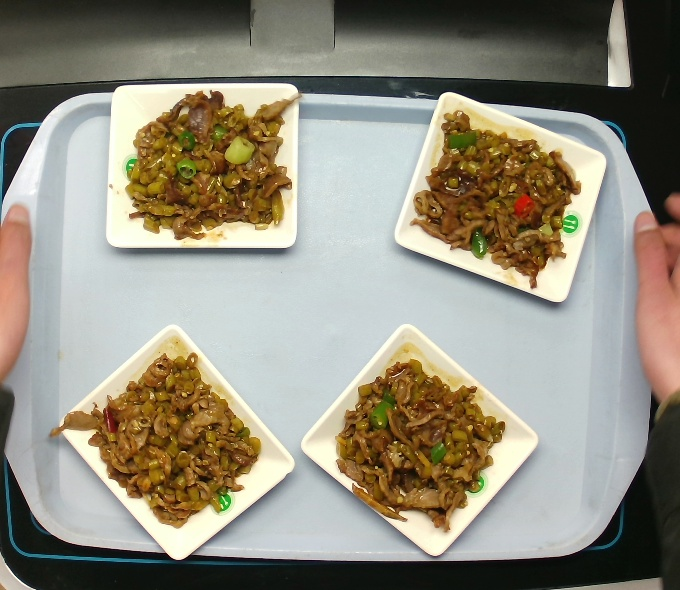wcq-JiZhen: (61, 352, 263, 525), (410, 105, 586, 300), (336, 359, 507, 535), (123, 84, 301, 245)
